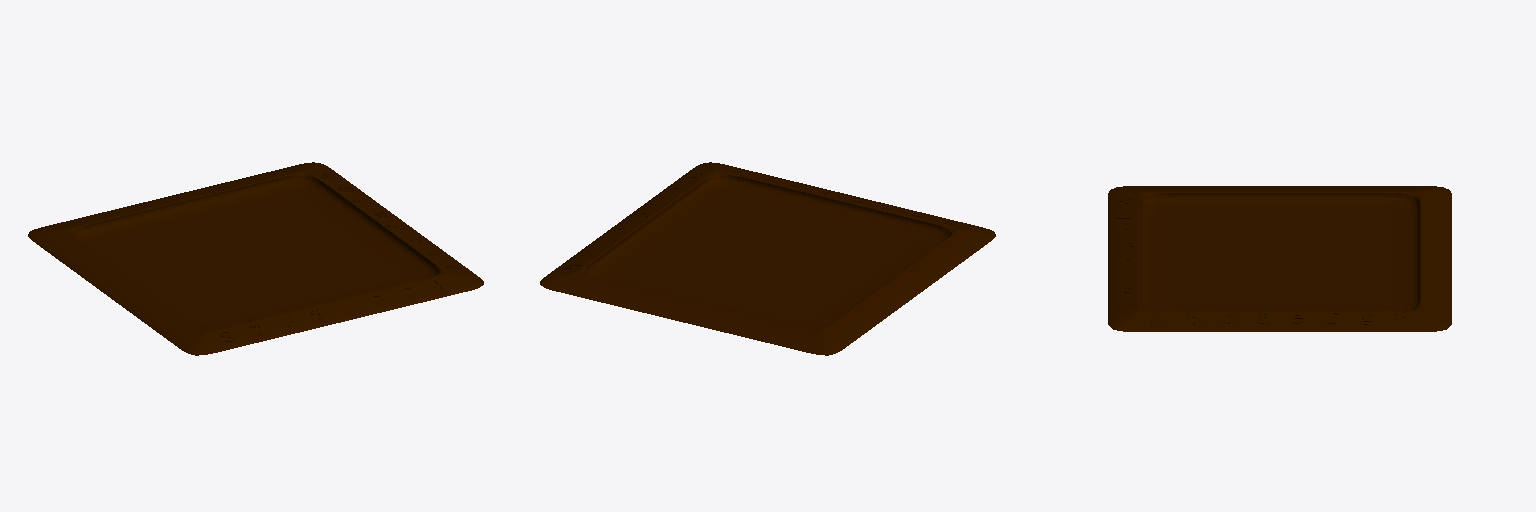
Rendered from ChessBoard.obj.
3 views of the same model, side by side, from view 1: azimuth 30°, elevation 25°; view 2: azimuth 150°, elevation 25°; view 3: azimuth 270°, elevation 25° (orthographic).
Parts seen in each view (by area): view 1: polySurface51_Mesh.010; view 2: polySurface51_Mesh.010; view 3: polySurface51_Mesh.010.
Part boxes in pixels (x1,y1,x2,y2): polySurface51_Mesh.010: (28, 162, 483, 355); polySurface51_Mesh.010: (540, 162, 995, 355); polySurface51_Mesh.010: (1108, 186, 1451, 331).
Bounding box in the file's own units: 0.2911 × 0.0088 × 0.2911.